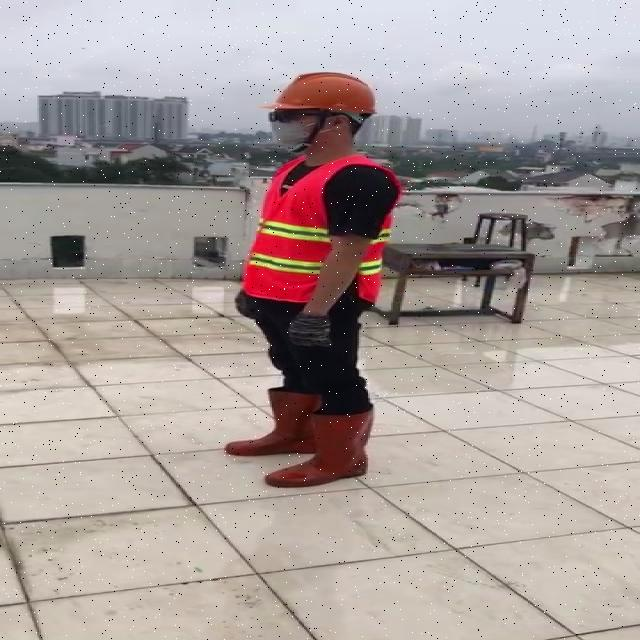Hard_hat: (258, 68, 387, 128)
Person: (224, 60, 420, 500)
Vest: (241, 149, 338, 304)
